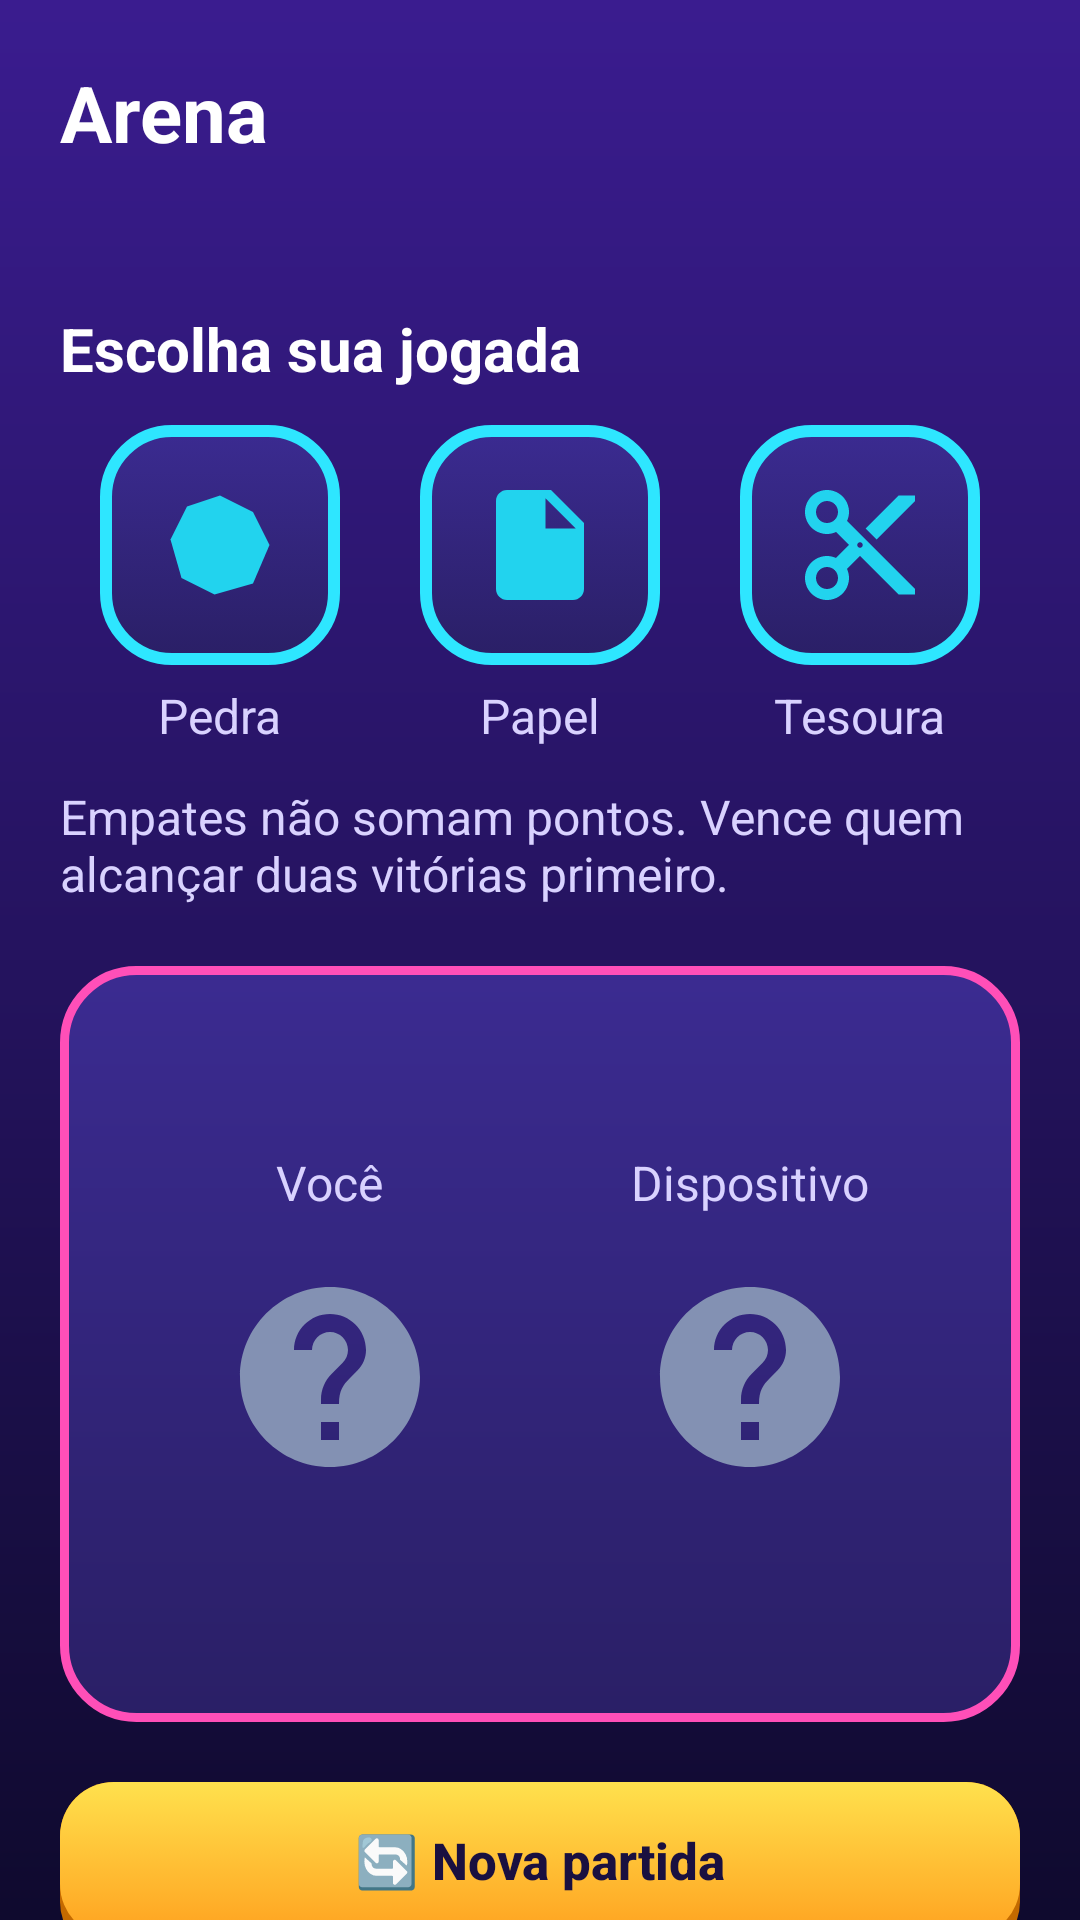

Named icons in this screenshot (1080x1920) and their centers, [x,y]:
Aguardando jogada: [330,1377], [750,1377]
